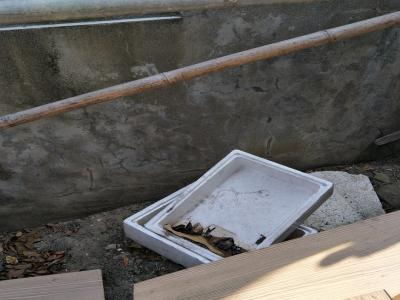styrofoam: (144, 147, 334, 264)
